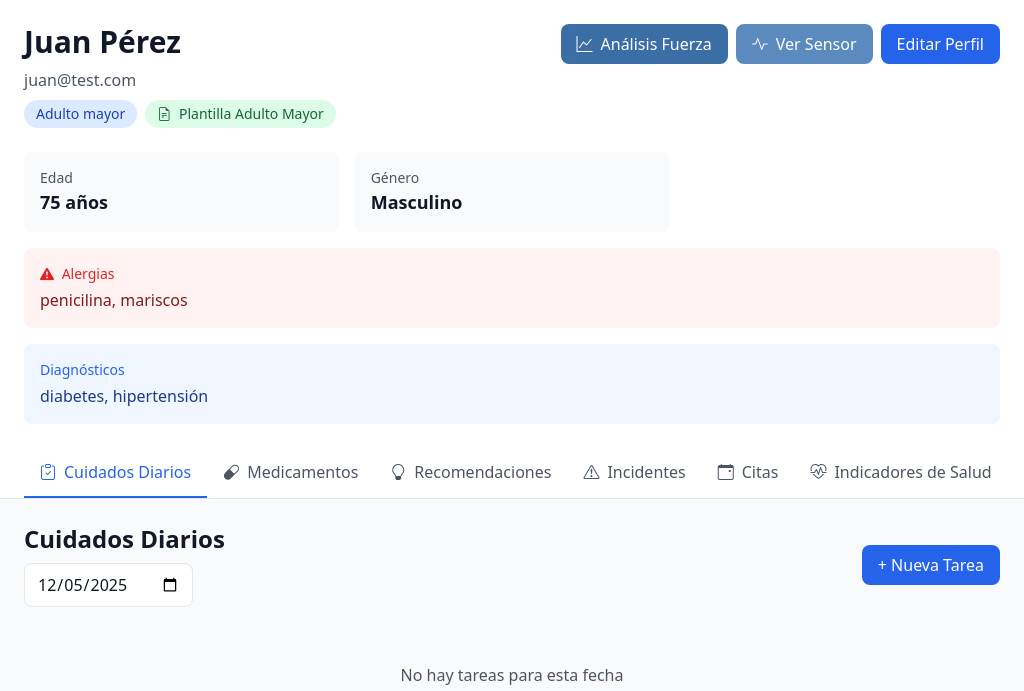
Test: PatientDashboard Component › toggles edit mode when edit button is clicked
Click the button "Editar Perfil": (940, 44) left=880, top=24, right=1000, bottom=64
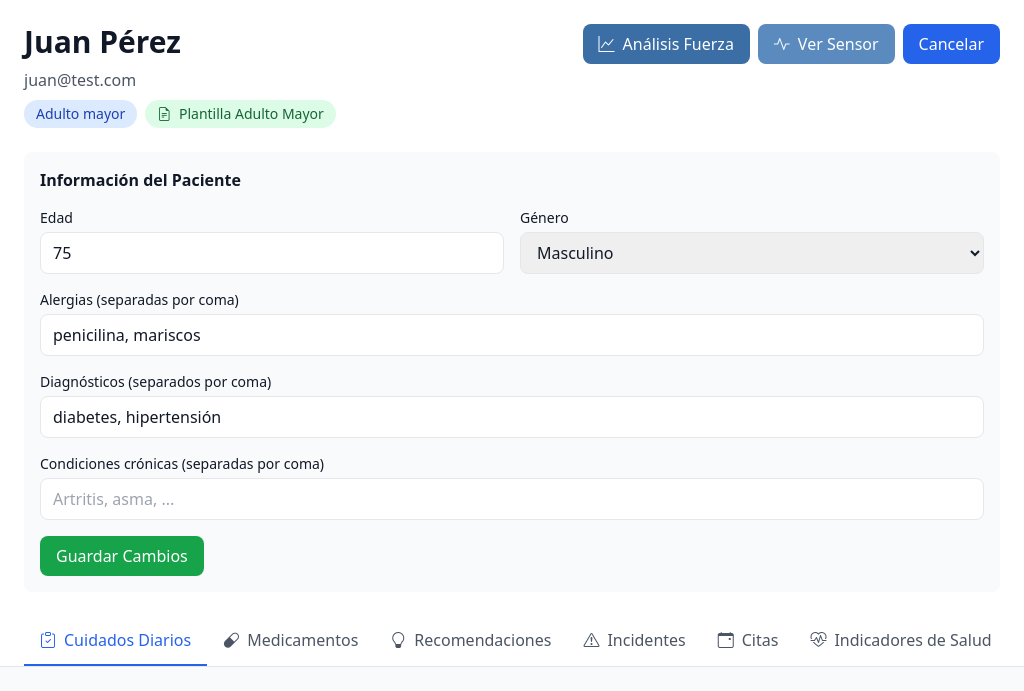
expect the button "Cancelar" is shown: met, box left=903, top=24, right=1000, bottom=64
expect the button "Guardar Cambios" is shown: met, box left=40, top=536, right=204, bottom=576
